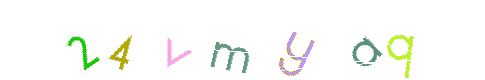2: (43, 0, 123, 80)
4: (114, 0, 194, 80)
A: (243, 0, 323, 80)
M: (207, 0, 287, 80)
Q: (324, 0, 404, 80)
V: (201, 0, 281, 80)
Y: (207, 0, 287, 80)
